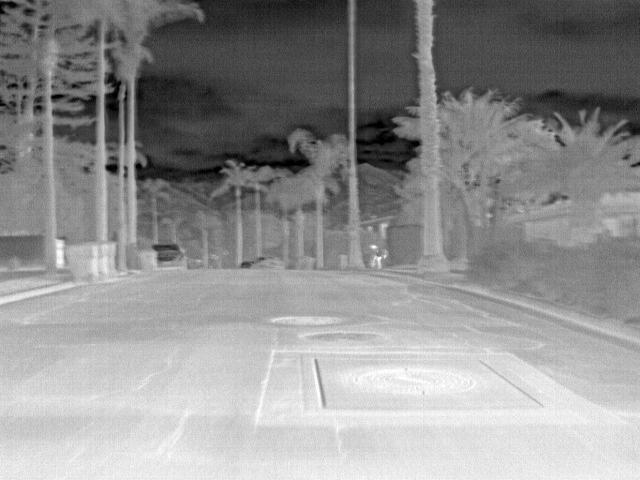car: (154, 241, 188, 269), (241, 253, 285, 268), (189, 256, 205, 270)
person: (369, 242, 382, 271)
